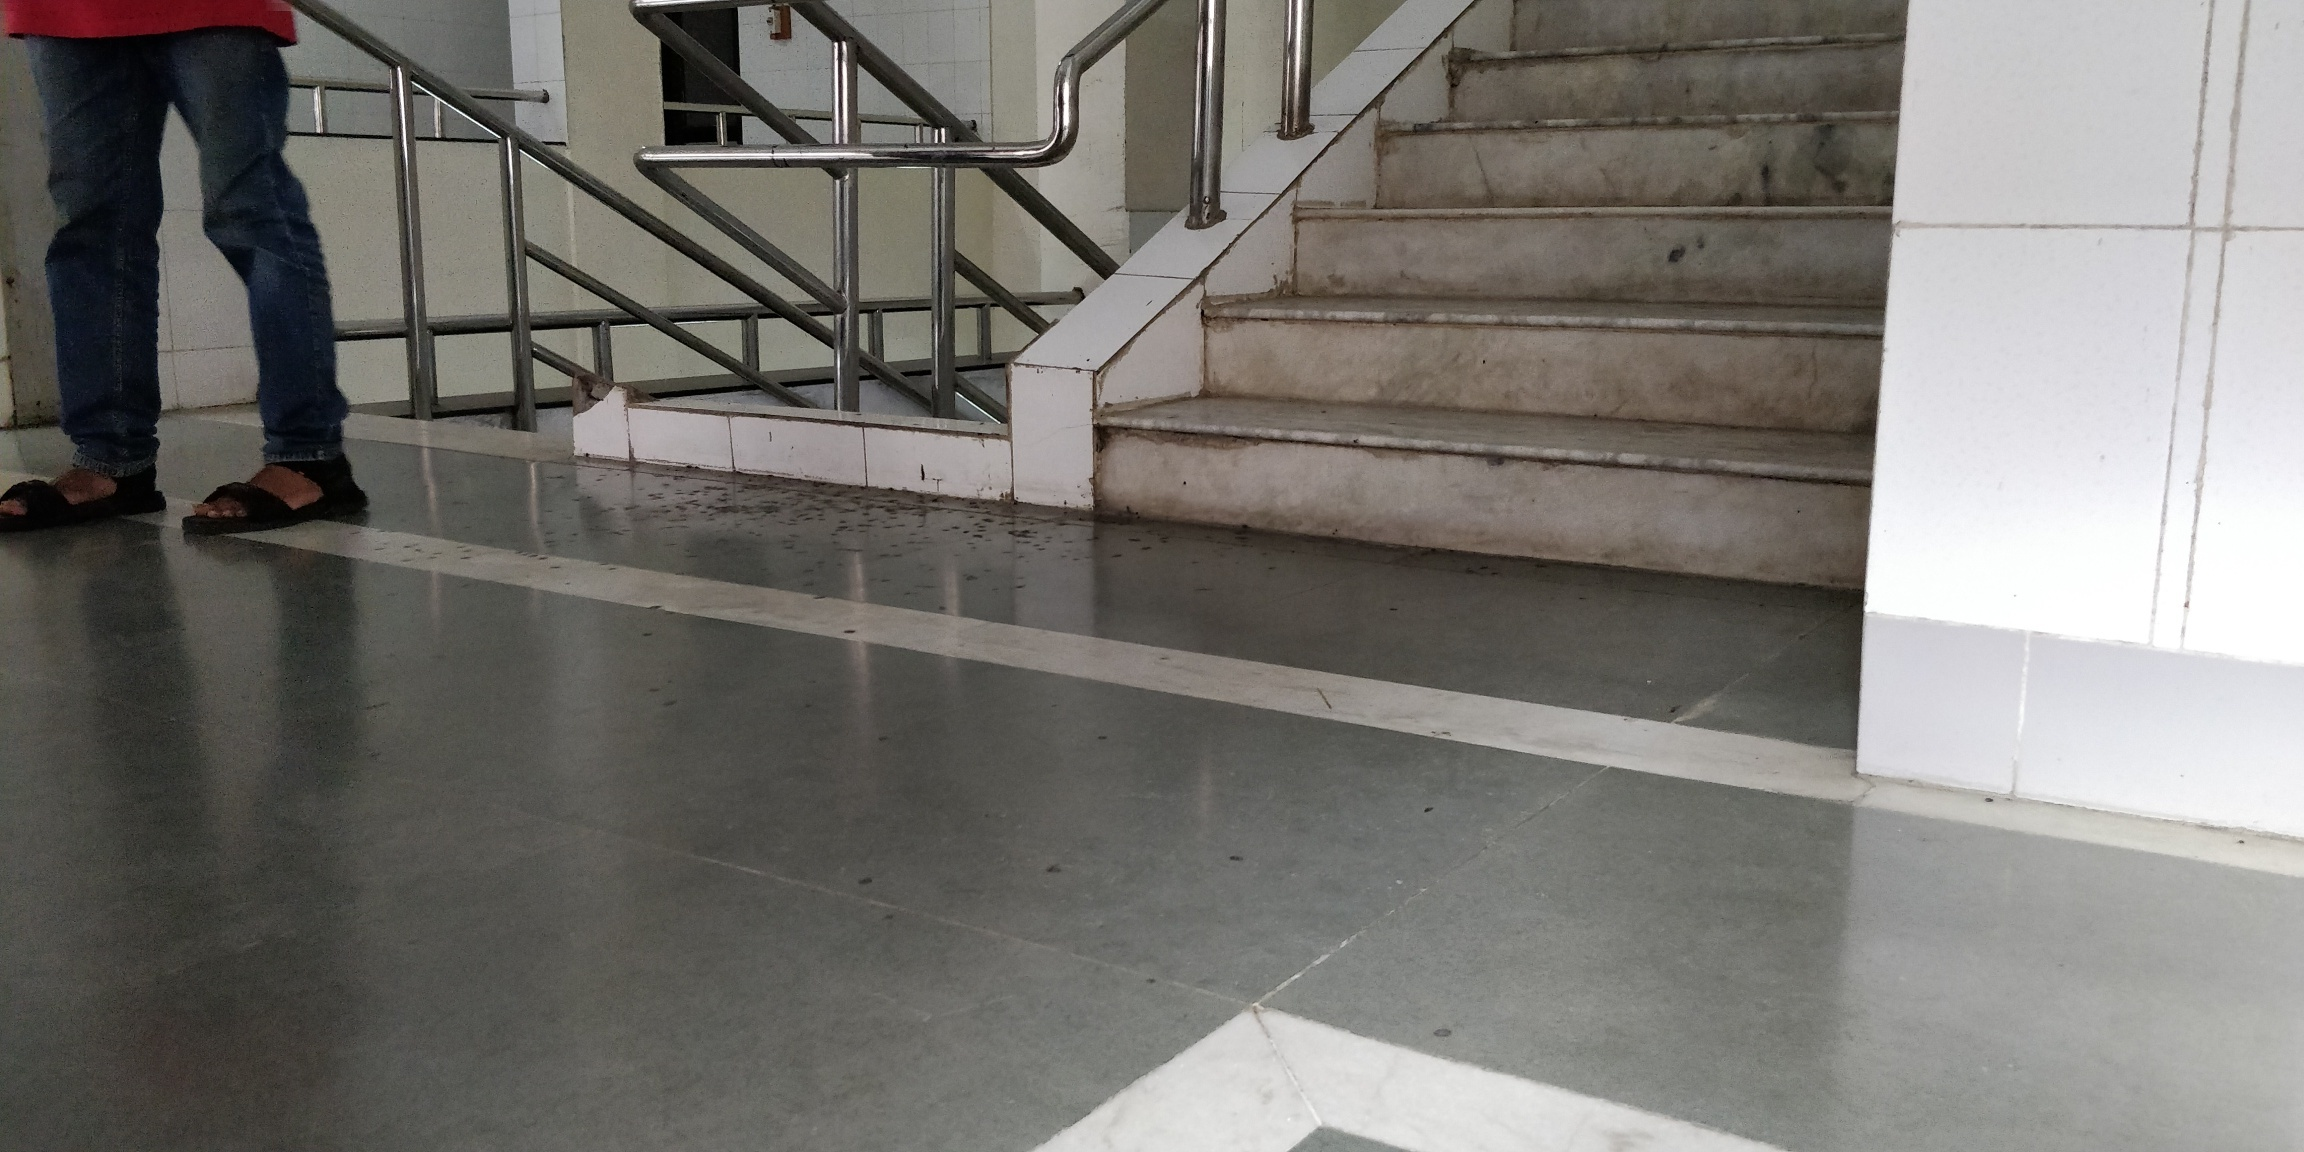stairs_up: (1056, 7, 1893, 642)
